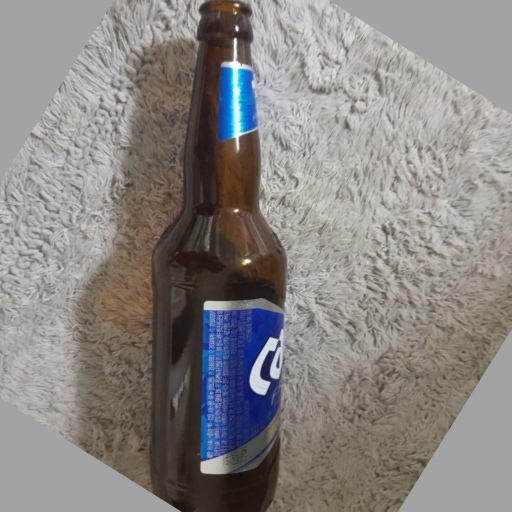Glass_1: (152, 1, 290, 510)
